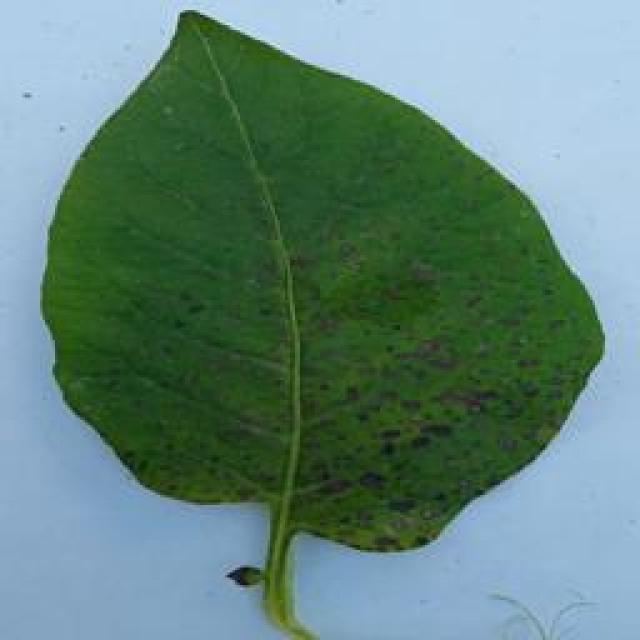Potato_Early_Blight: (42, 9, 628, 578)
